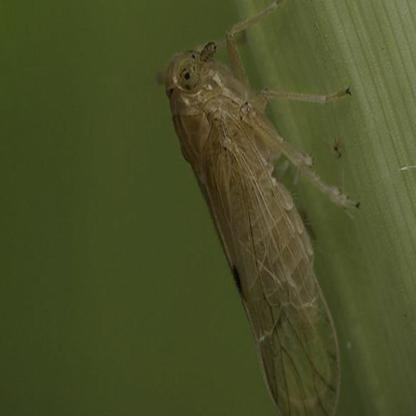brown-planthopper: (158, 38, 341, 416)
